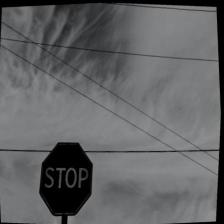Stop: (34, 136, 101, 220)
